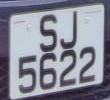2: (57, 47, 80, 92), (77, 44, 99, 87)
5: (15, 50, 39, 100)
6: (37, 53, 59, 93)
J: (58, 9, 82, 53)
S: (37, 13, 61, 55)
